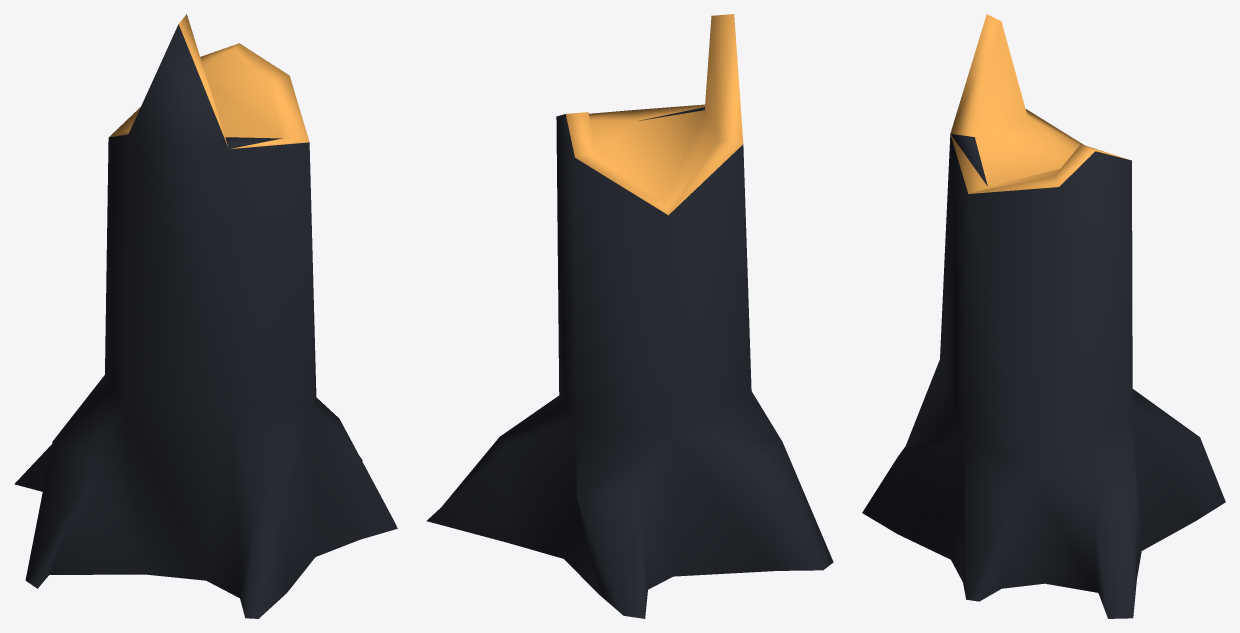
Rendered from snagBirch-compressed.glb.
The picture shows the model from 3 angles, left to right: view 1: azimuth 30°, elevation 25°; view 2: azimuth 150°, elevation 25°; view 3: azimuth 270°, elevation 25°; orthographic projection. The views are drawn at different scales.
Parts seen in each view (by area): view 1: snagBirch; view 2: snagBirch; view 3: snagBirch.
Part boxes in pixels (x1,y1,x2,y2): snagBirch: [14, 14, 397, 618]; snagBirch: [426, 14, 833, 618]; snagBirch: [862, 14, 1225, 618].
Bounding box in the file's own units: 1.04 × 1.45 × 0.9677.
